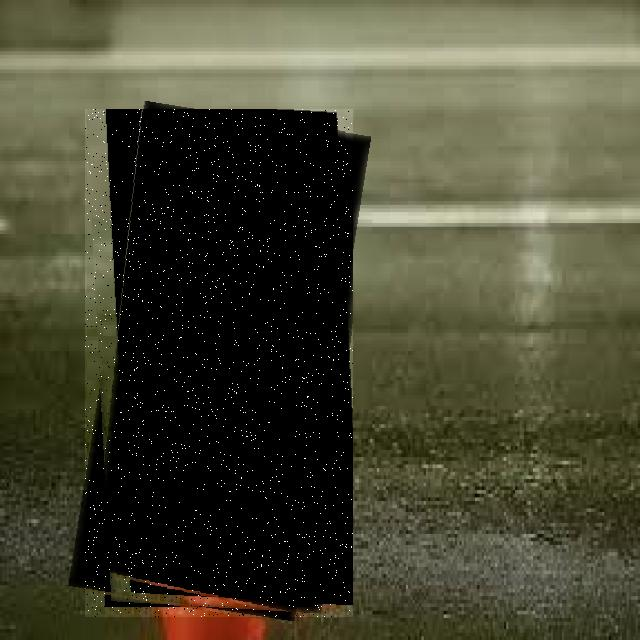Traffic-cone: (85, 109, 353, 617)
